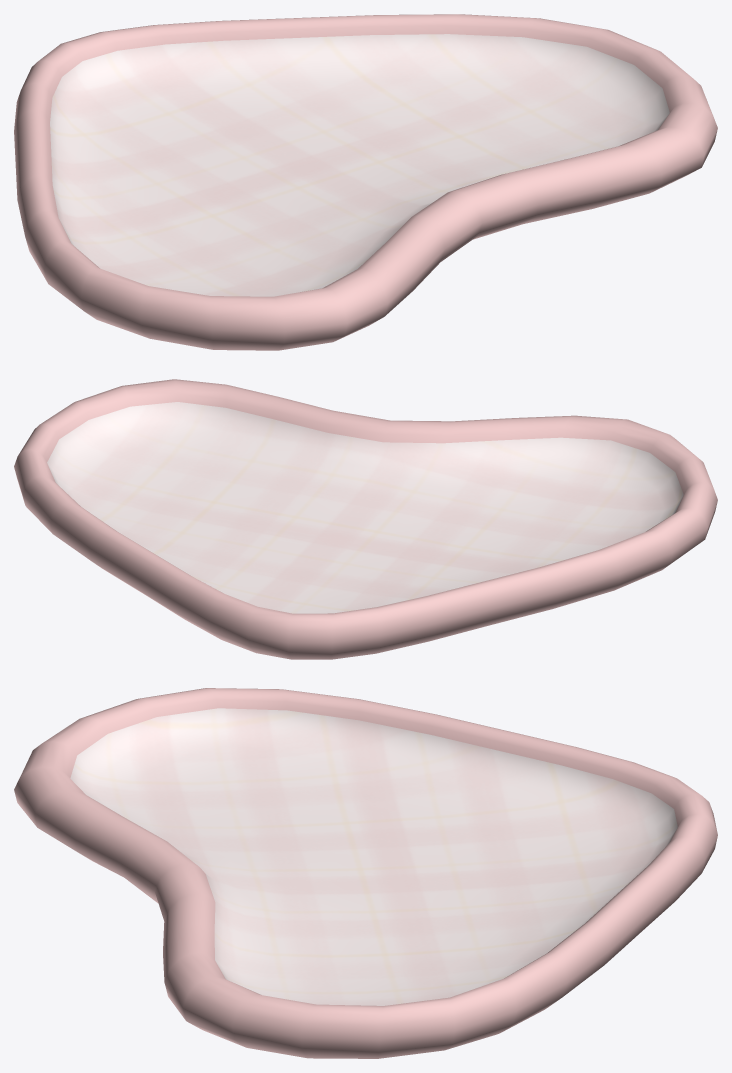
Rendered from HeartPlate.obj.
The picture shows the model from 3 angles, top to bottom: view 1: azimuth 30°, elevation 25°; view 2: azimuth 150°, elevation 25°; view 3: azimuth 270°, elevation 25°; orthographic projection. The views are drawn at different scales.
Visible parts, largest first — view 1: HeartPlate_HeartPlateSG; view 2: HeartPlate_HeartPlateSG; view 3: HeartPlate_HeartPlateSG.
Boxes of the visible parts, x1,y1,x2,y2 form: HeartPlate_HeartPlateSG: (14,14,717,350); HeartPlate_HeartPlateSG: (14,379,717,659); HeartPlate_HeartPlateSG: (14,688,717,1058).
Bounding box in the file's own units: 2.57 × 0.2643 × 2.27.
Materials: 1 (1 with a texture image).
